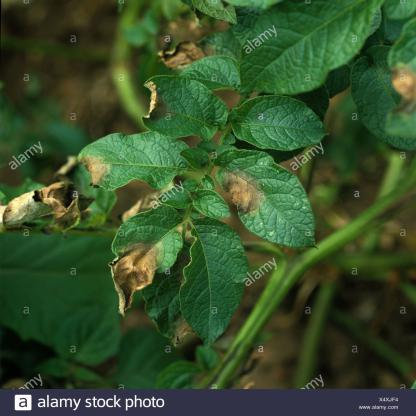Potato leaf late blight: (217, 145, 321, 253), (105, 202, 183, 321), (76, 129, 189, 193), (139, 71, 228, 146)
